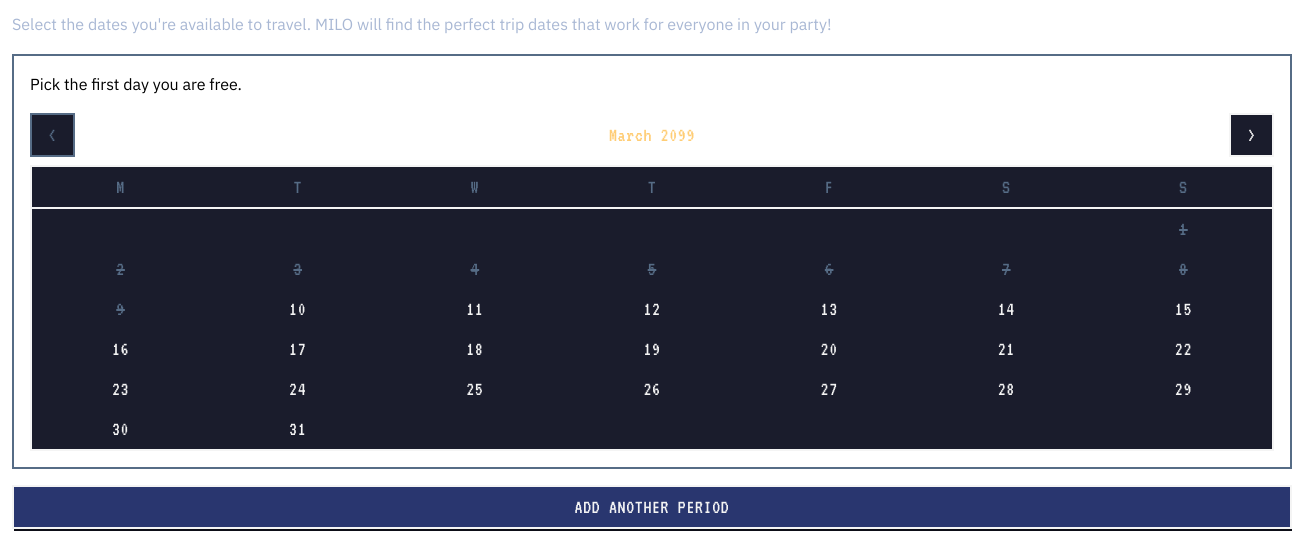
AvailabilityPicker › lets a period be a single day
Click the button named "Fri 13 Mar".
click(829, 309)  # box top-left (741, 289), bottom-right (918, 329)
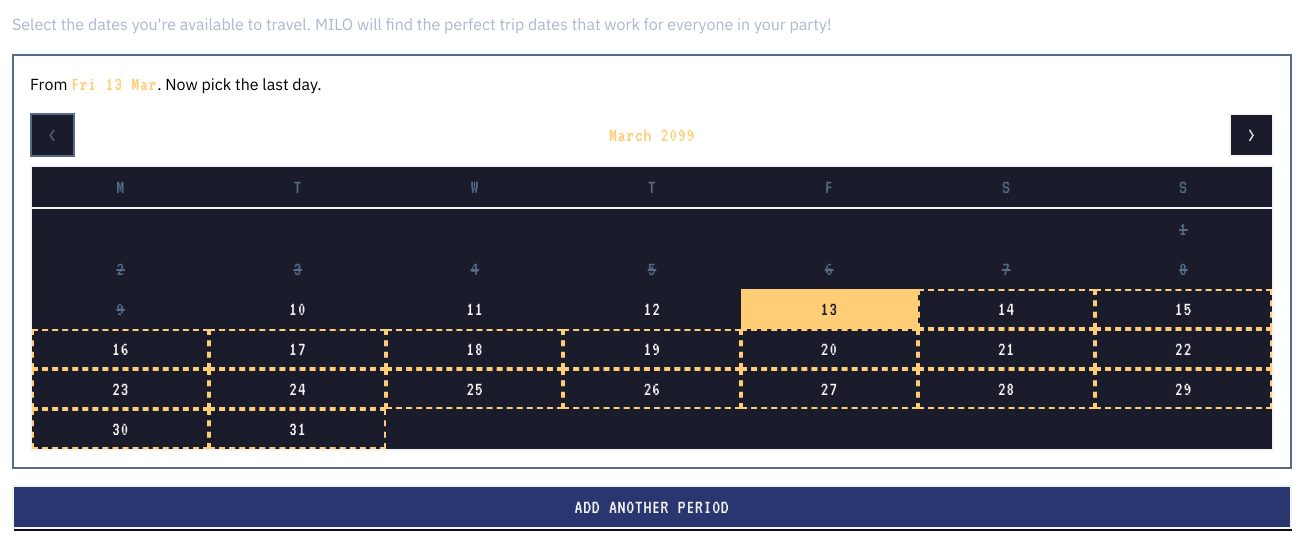
Click the button named "Fri 13 Mar".
click(829, 309)  # box top-left (741, 289), bottom-right (918, 329)
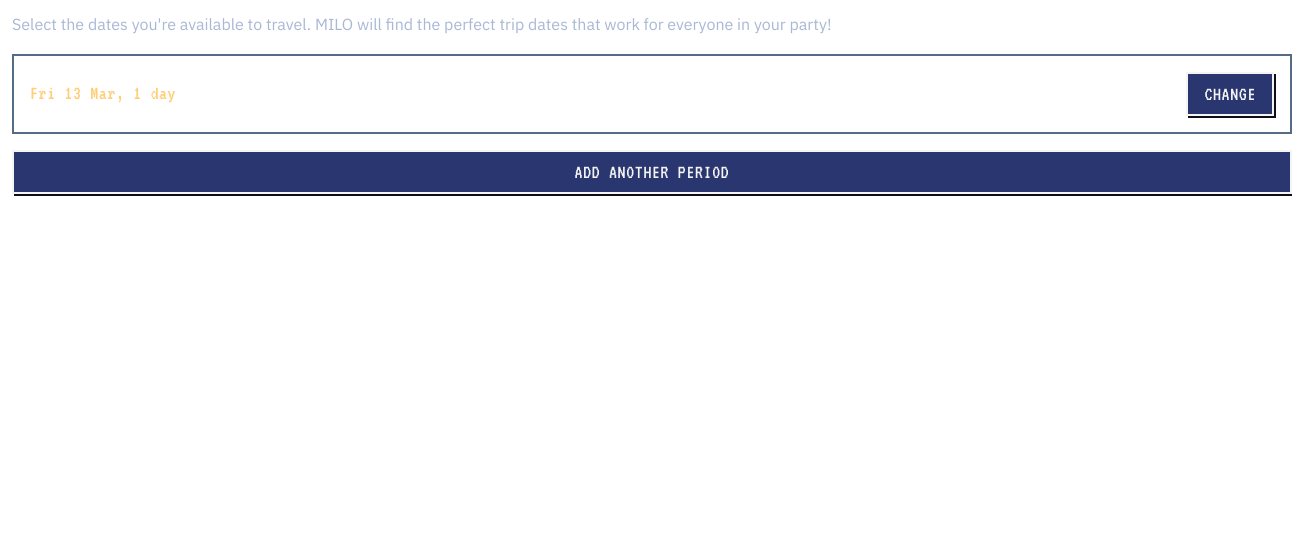
Expected: the text "Fri 13 Mar, 1 day" is shown, top-left (30, 83), bottom-right (176, 103)
